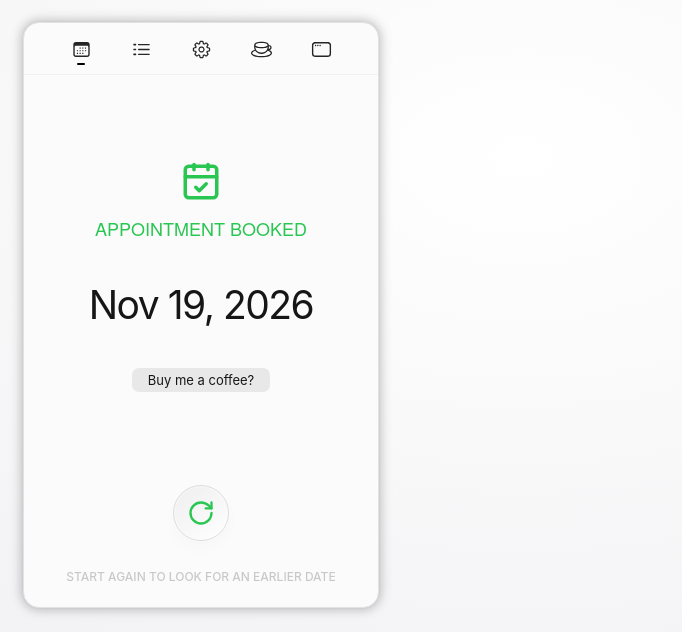
Test: Start-command failure screens › quietly retries a lost restart response at the configured staggered interval
This screenshot has width=682, height=632.
Click the button named "Retry": coordinates (201, 513) [173, 485, 229, 541]
Wait 60000 ms
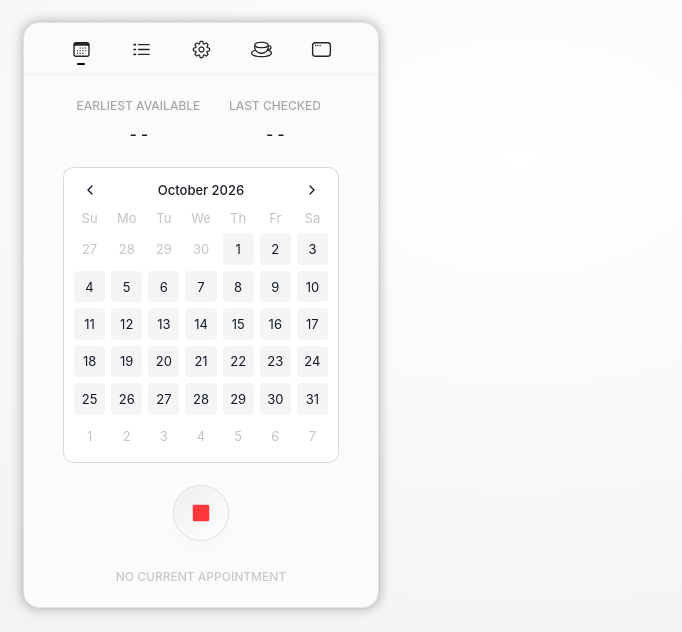
Expected: the heading "Appointment booked" is gone
Expected: the button named "Stop" is shown, [173, 485, 229, 541]
